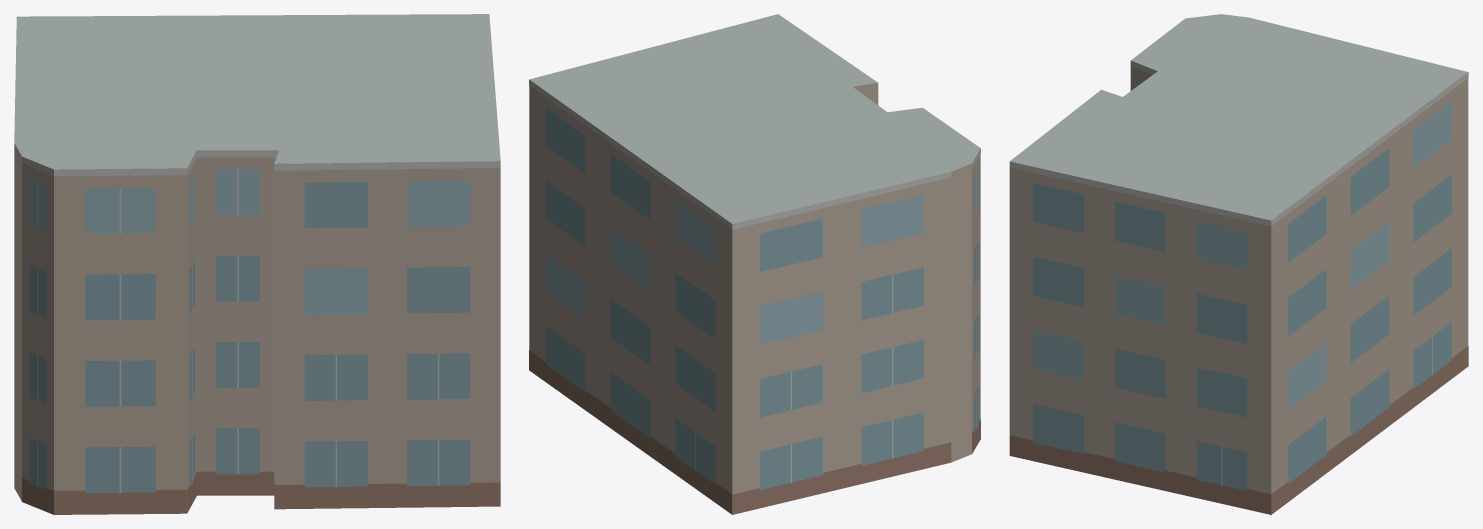
Rendered from survey-upis-32674116.glb.
The picture shows the model from 3 angles, left to right: view 1: azimuth 30°, elevation 25°; view 2: azimuth 150°, elevation 25°; view 3: azimuth 270°, elevation 25°; orthographic projection. The views are drawn at different scales.
Parts seen in each view (by area): view 1: survey-upis-32674116.tmp; view 2: survey-upis-32674116.tmp; view 3: survey-upis-32674116.tmp.
Boxes of the visible parts, x1,y1,x2,y2 form: survey-upis-32674116.tmp: (14,14,500,514); survey-upis-32674116.tmp: (529,14,980,514); survey-upis-32674116.tmp: (1009,14,1468,514).
Bounding box in the file's own units: 18.37 × 12.2 × 17.24.
